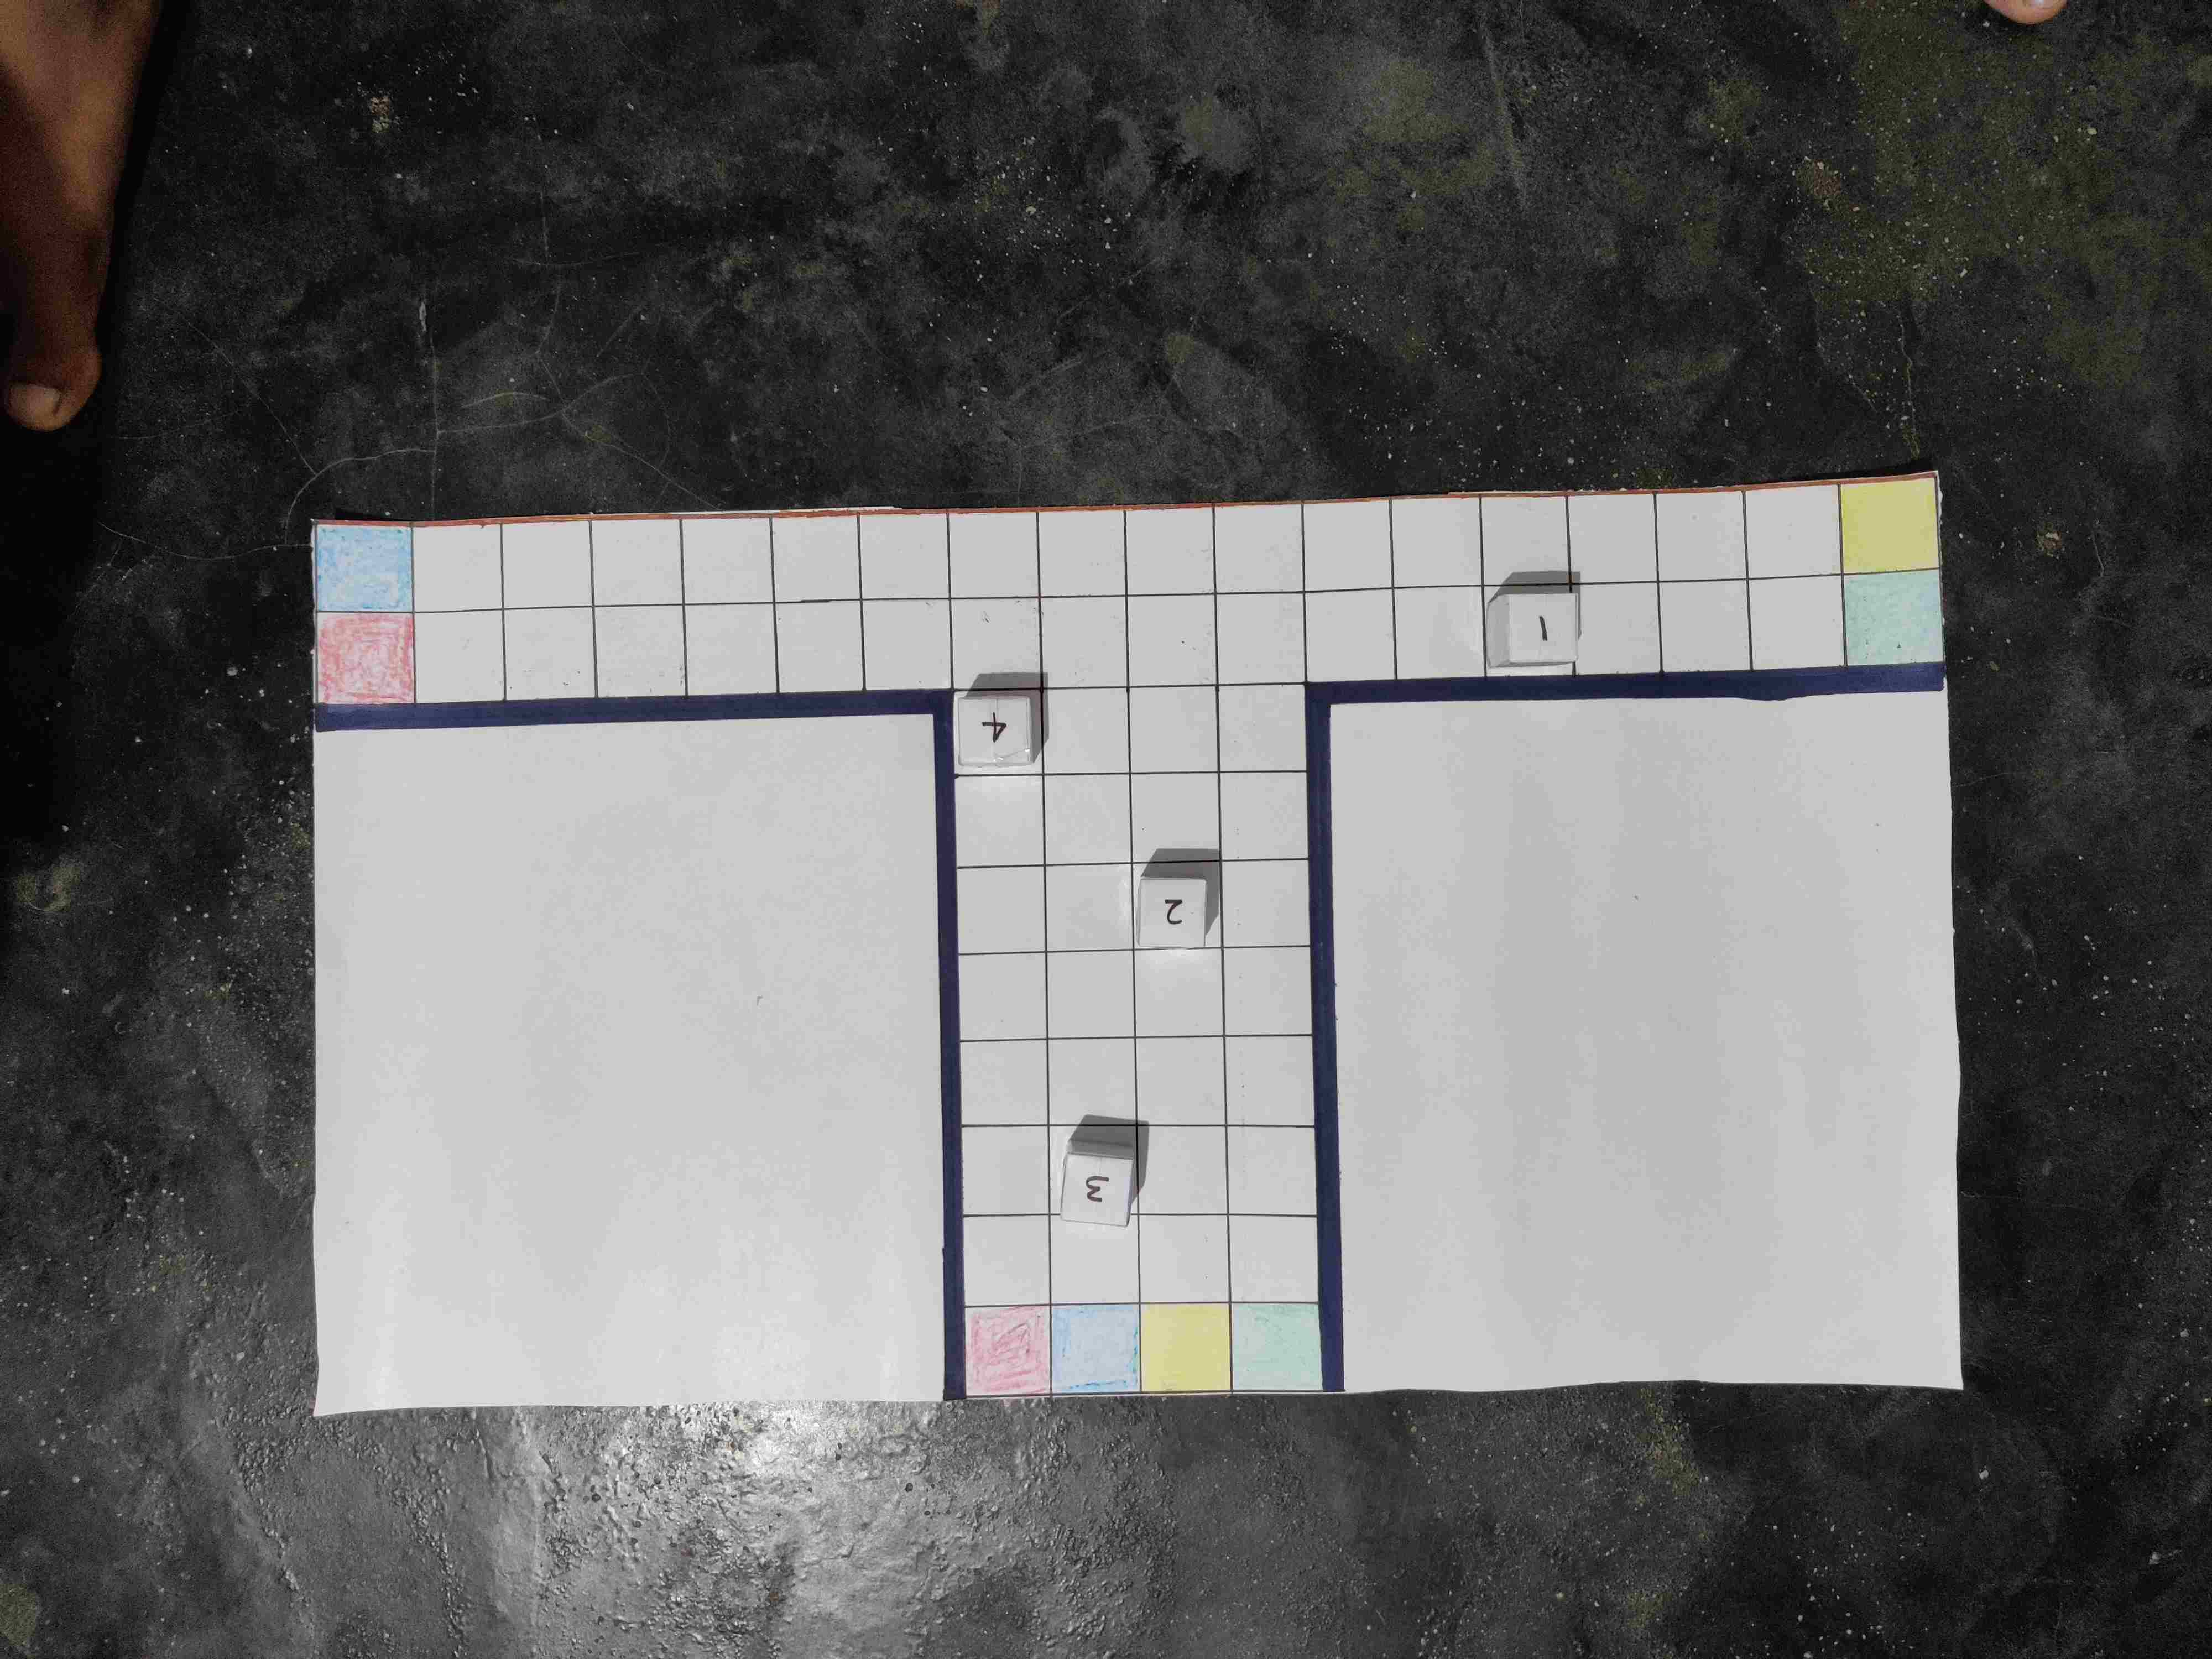arena: (312, 479, 1947, 1406)
bot: (956, 695, 1031, 767), (1505, 592, 1578, 664), (1062, 1150, 1130, 1227), (1141, 880, 1205, 943)
